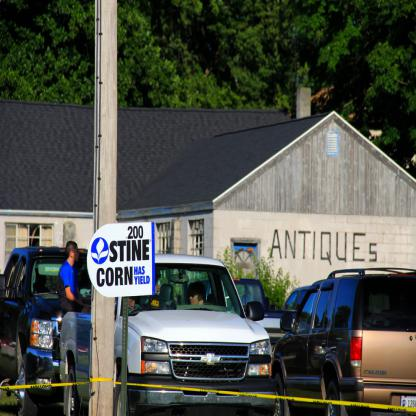Car: (114, 253, 301, 410), (270, 267, 415, 415), (0, 246, 91, 416), (197, 275, 295, 351), (282, 281, 315, 315)
Truck: (56, 252, 280, 416), (201, 277, 296, 348)
